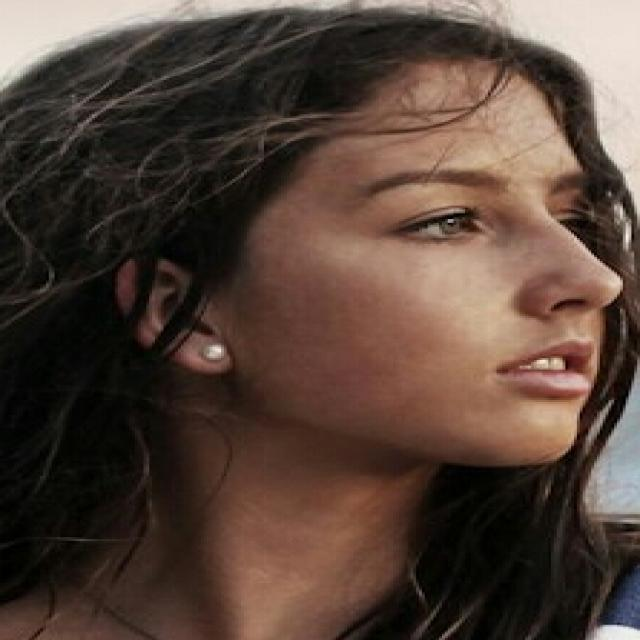front: (329, 144, 640, 457)
